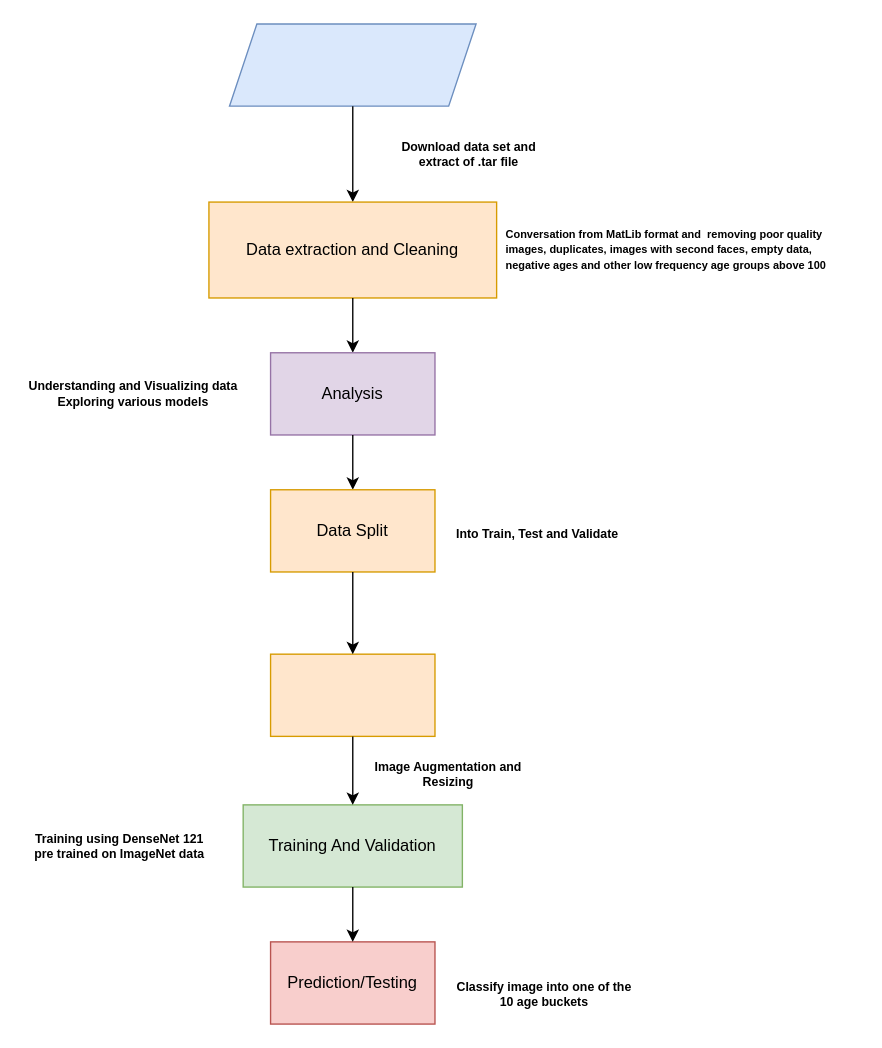
This 882x1048 diagram has some shape labels left out. Each missing label, with the centre of its shape:
Cropped Images from IMDB-WIKI Datasets: pixel 352 64
Preprocessing: pixel 352 694
